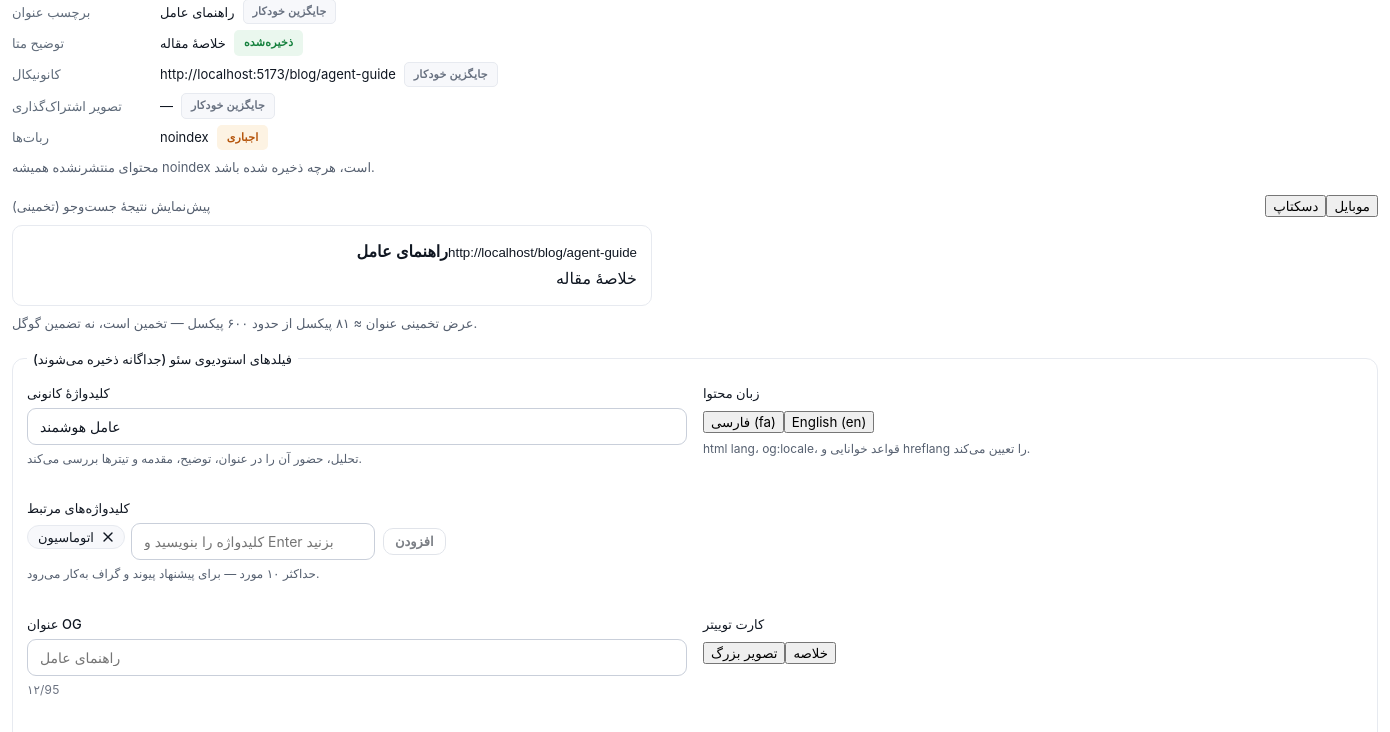
Test case: SeoStudioPanel › saves its own fields through PUT and reports a language conflict
Replace the text in the field with test id "seo-focus" with "agent" at (357, 426), box [27,408,687,445]
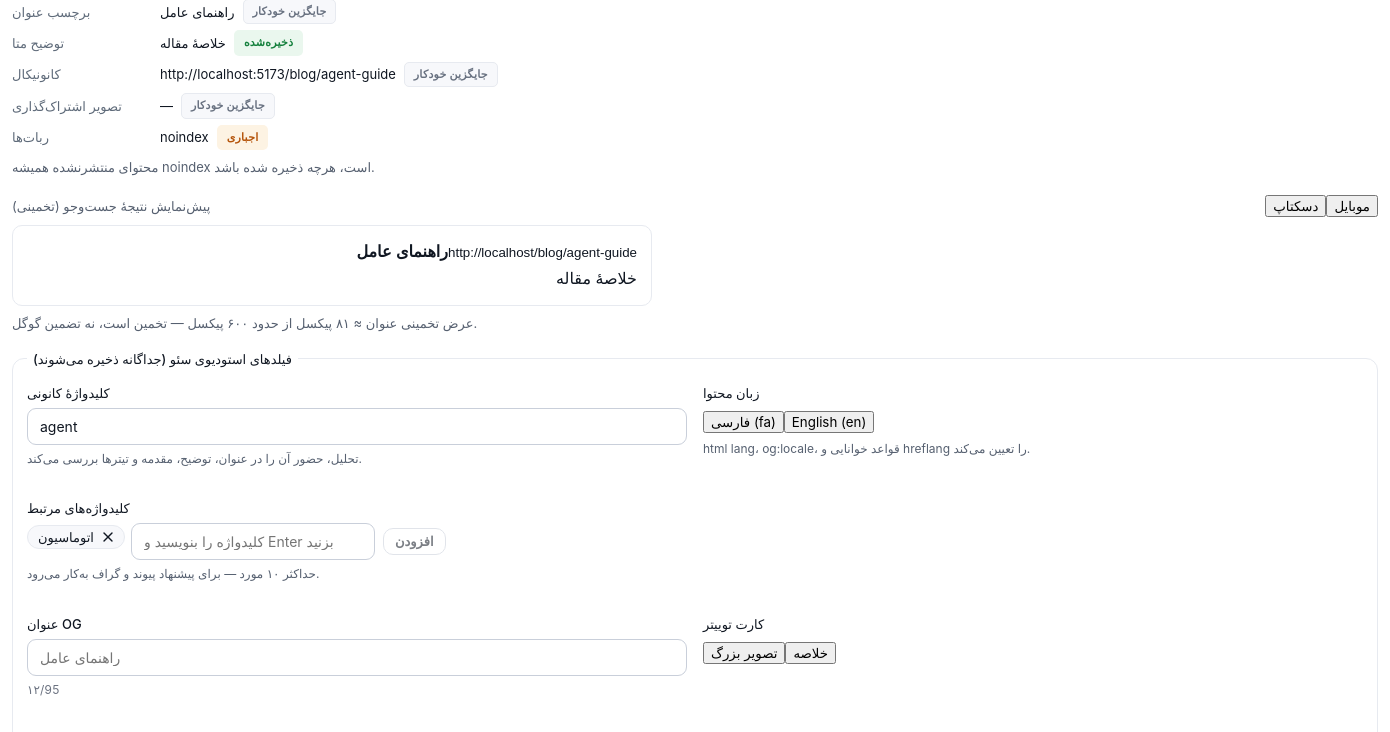
Click the radio button "English (en)" at (829, 422), box [784,411,874,433]
(page scrolled)
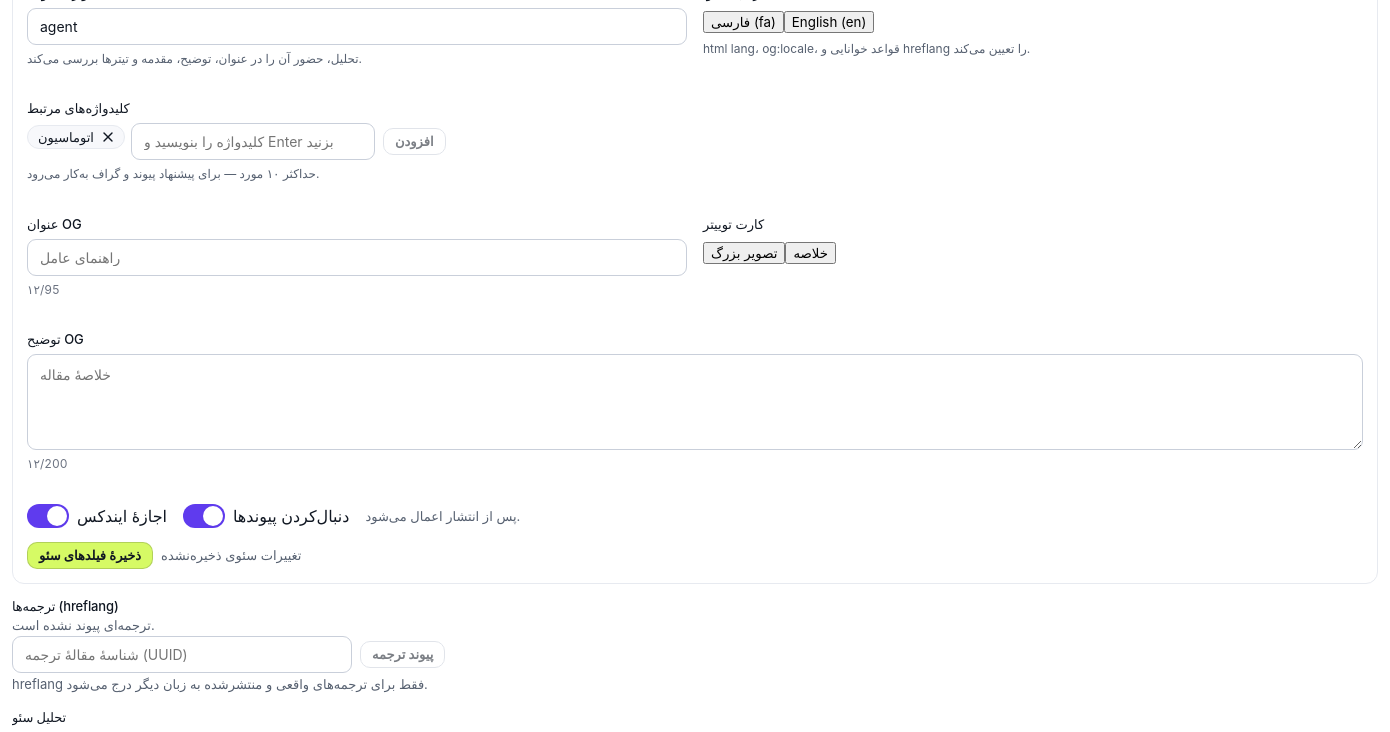
Expected: the button with test id "seo-save" showing "ذخیرهٔ فیلدهای سئو" is enabled
Click the button with test id "seo-save" showing "ذخیرهٔ فیلدهای سئو" at (90, 555), box [27,542,153,569]
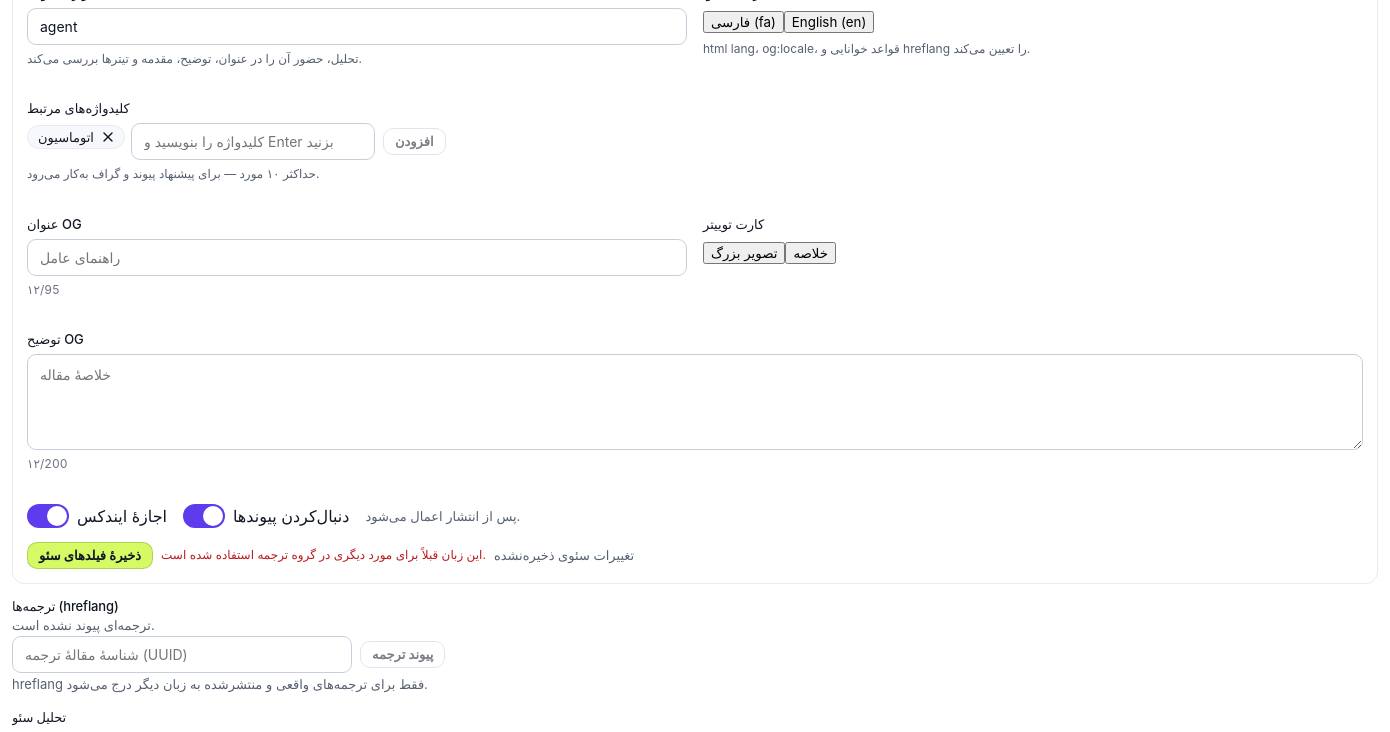
Expected: the message reads "این زبان قبلاً برای مورد دیگری در گروه ترجمه استفاده شده است.", [161,547,486,562]
Click the button with test id "seo-save" showing "ذخیرهٔ فیلدهای سئو" at (90, 555), box [27,542,153,569]
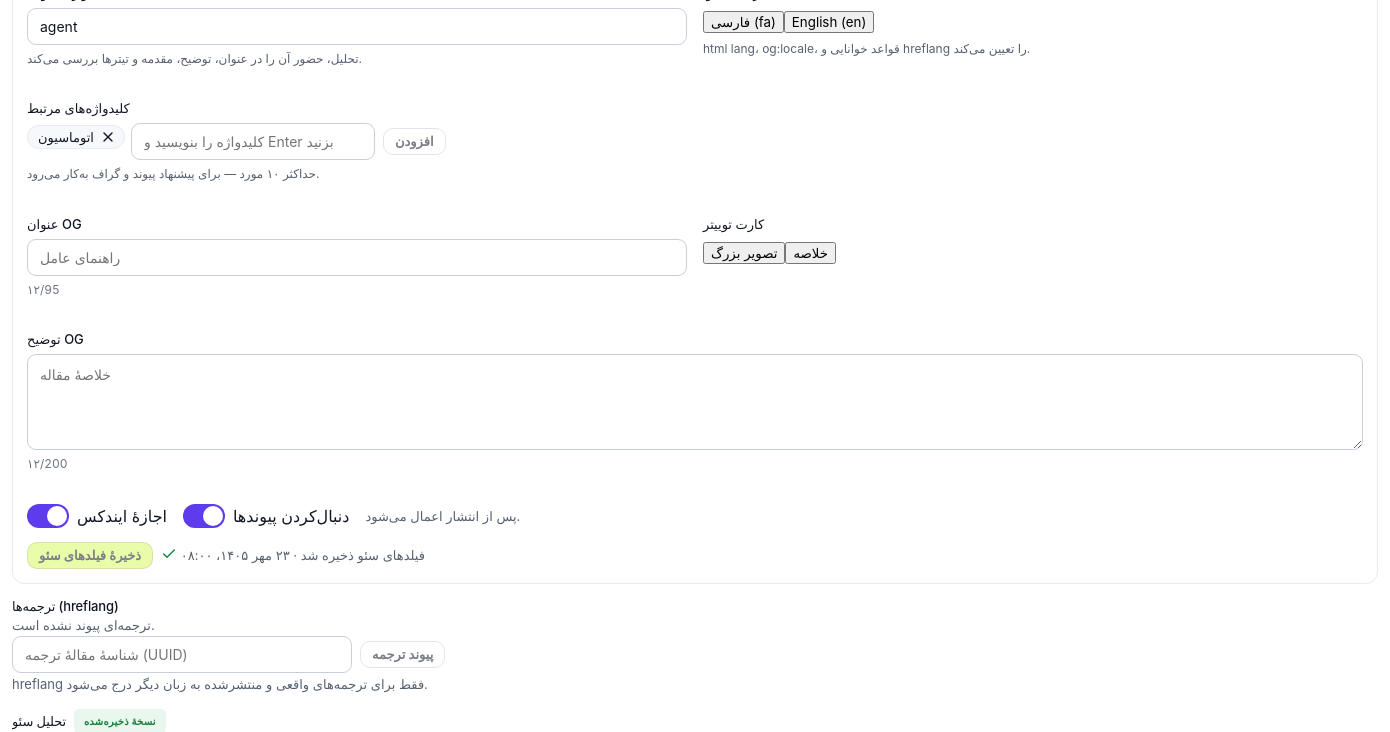
Expected: the text "فیلدهای سئو ذخیره شد · ۲۳ مهر ۱۴۰۵، ۰۸:۰۰" is shown, [161,544,425,566]
Expected: the button with test id "seo-save" showing "ذخیرهٔ فیلدهای سئو" is disabled, [27,542,153,569]
